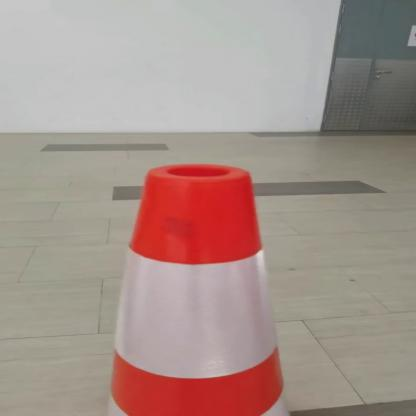cone: (65, 162, 328, 415)
